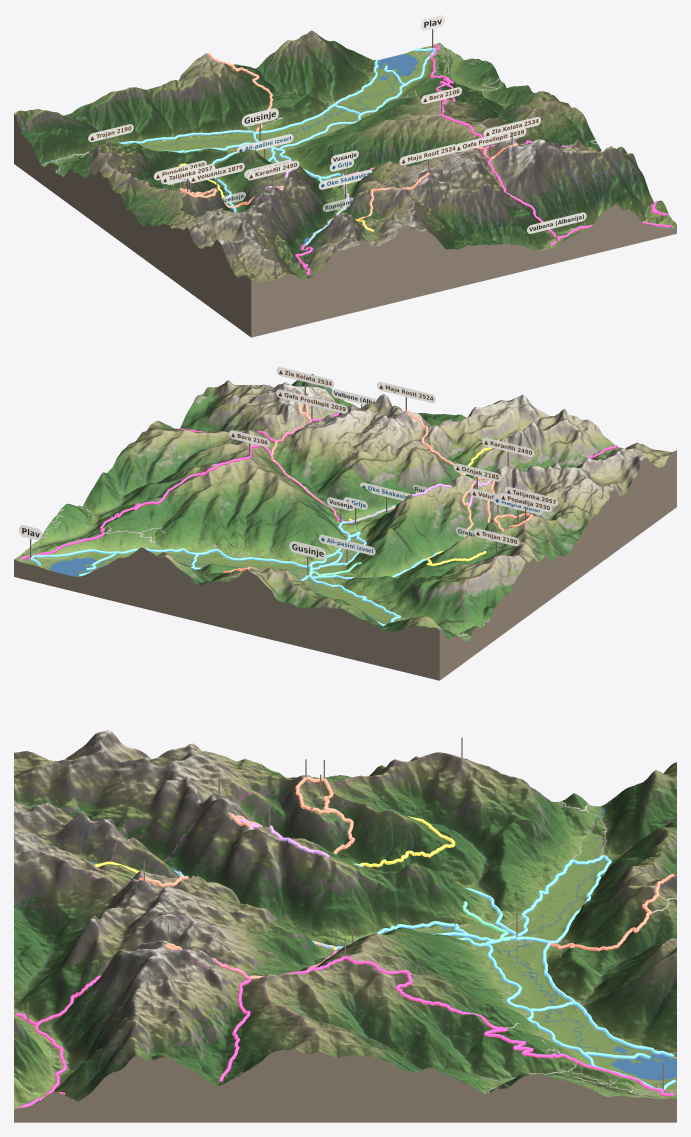
The model's file is teren_ar.glb.
3 renders of one model, top to bottom at view 1: azimuth 30°, elevation 25°; view 2: azimuth 150°, elevation 25°; view 3: azimuth 270°, elevation 25°, orthographic. The views are drawn at different scales.
Parts seen in each view (by area): view 1: teren; view 2: teren; view 3: teren.
Boxes of the visible parts, left/top/right/bottom form: teren: left=14, top=15, right=676, bottom=337; teren: left=14, top=367, right=676, bottom=680; teren: left=14, top=730, right=676, bottom=1122.
Bounding box in the file's own units: 0.6041 × 0.1327 × 0.5794.
9 materials, 2 textured.
